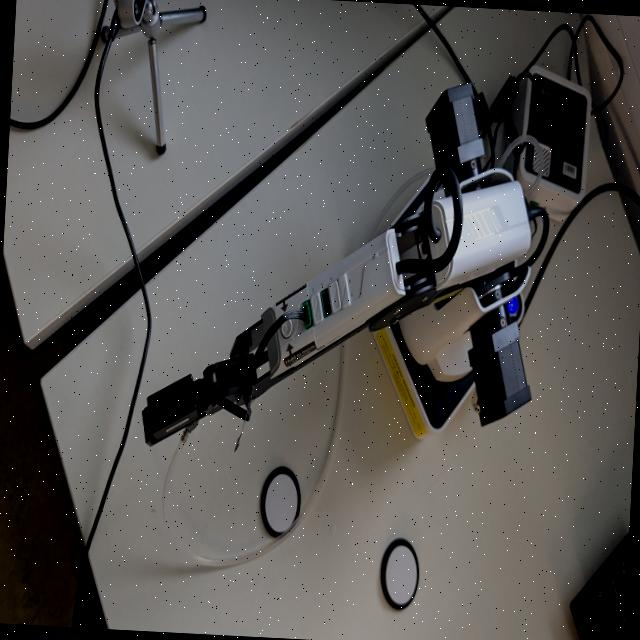Robot-end-effector-HF8z: (138, 368, 205, 458)
